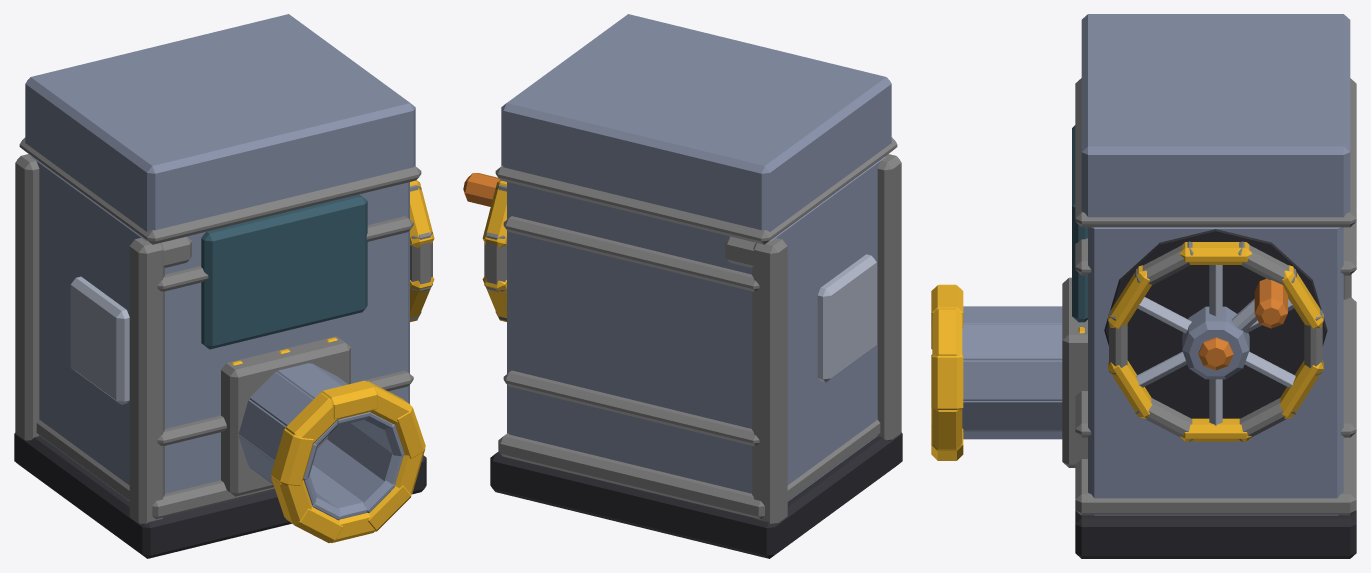
Rendered from crank.glb.
3 views of the same model, side by side, from view 1: azimuth 30°, elevation 25°; view 2: azimuth 150°, elevation 25°; view 3: azimuth 270°, elevation 25° (orthographic). The views are drawn at different scales.
Parts seen in each view (by area): view 1: crank; view 2: crank; view 3: crank.
Part boxes in pixels (bbox=[...]): crank: bbox=[14, 14, 434, 558]; crank: bbox=[463, 14, 902, 558]; crank: bbox=[931, 14, 1356, 558].
Size of the model in its own units: 1.31 by 1.41 by 1.33.
